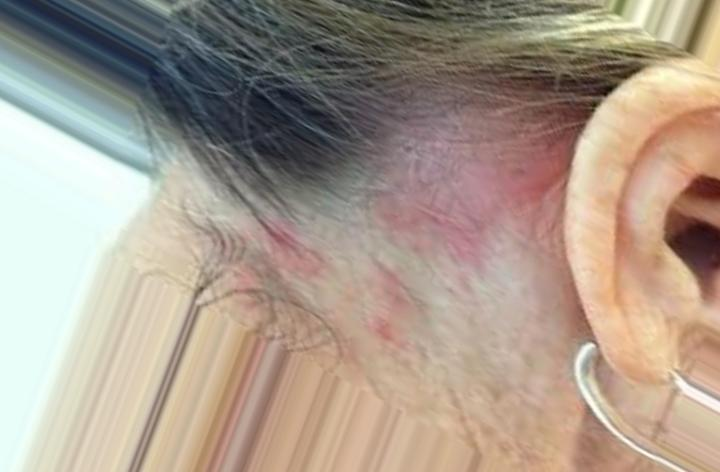Contact Dermatitis: (305, 110, 506, 339)
